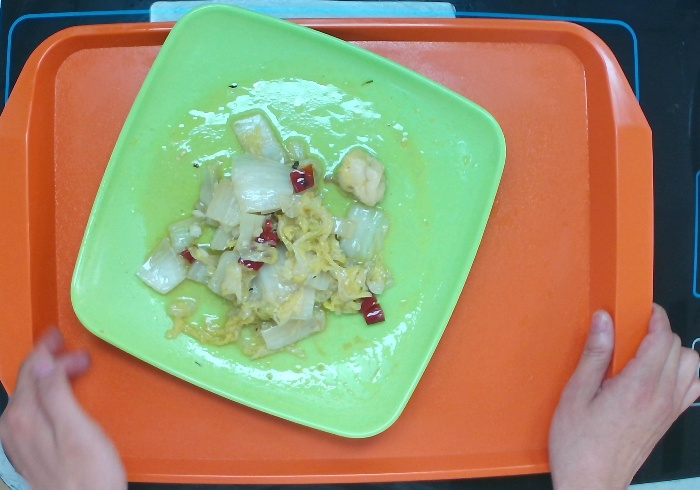ZNLD-Lv_Fang_Pan: (72, 2, 507, 437)
